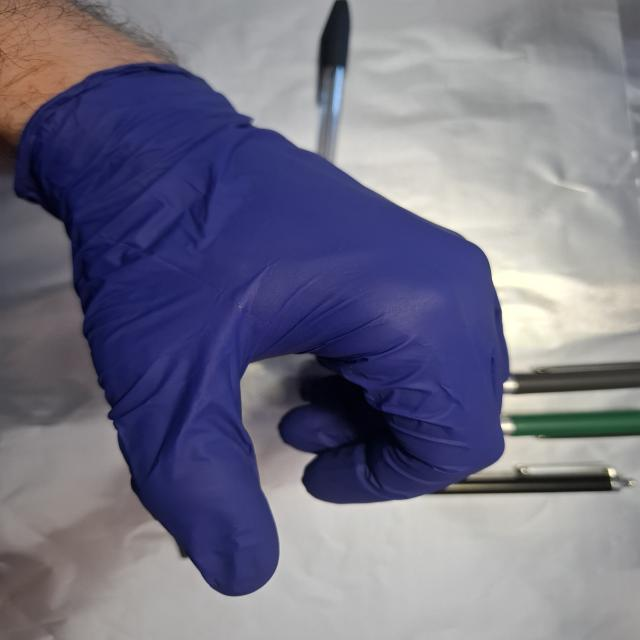glove_on: (15, 56, 517, 602)
